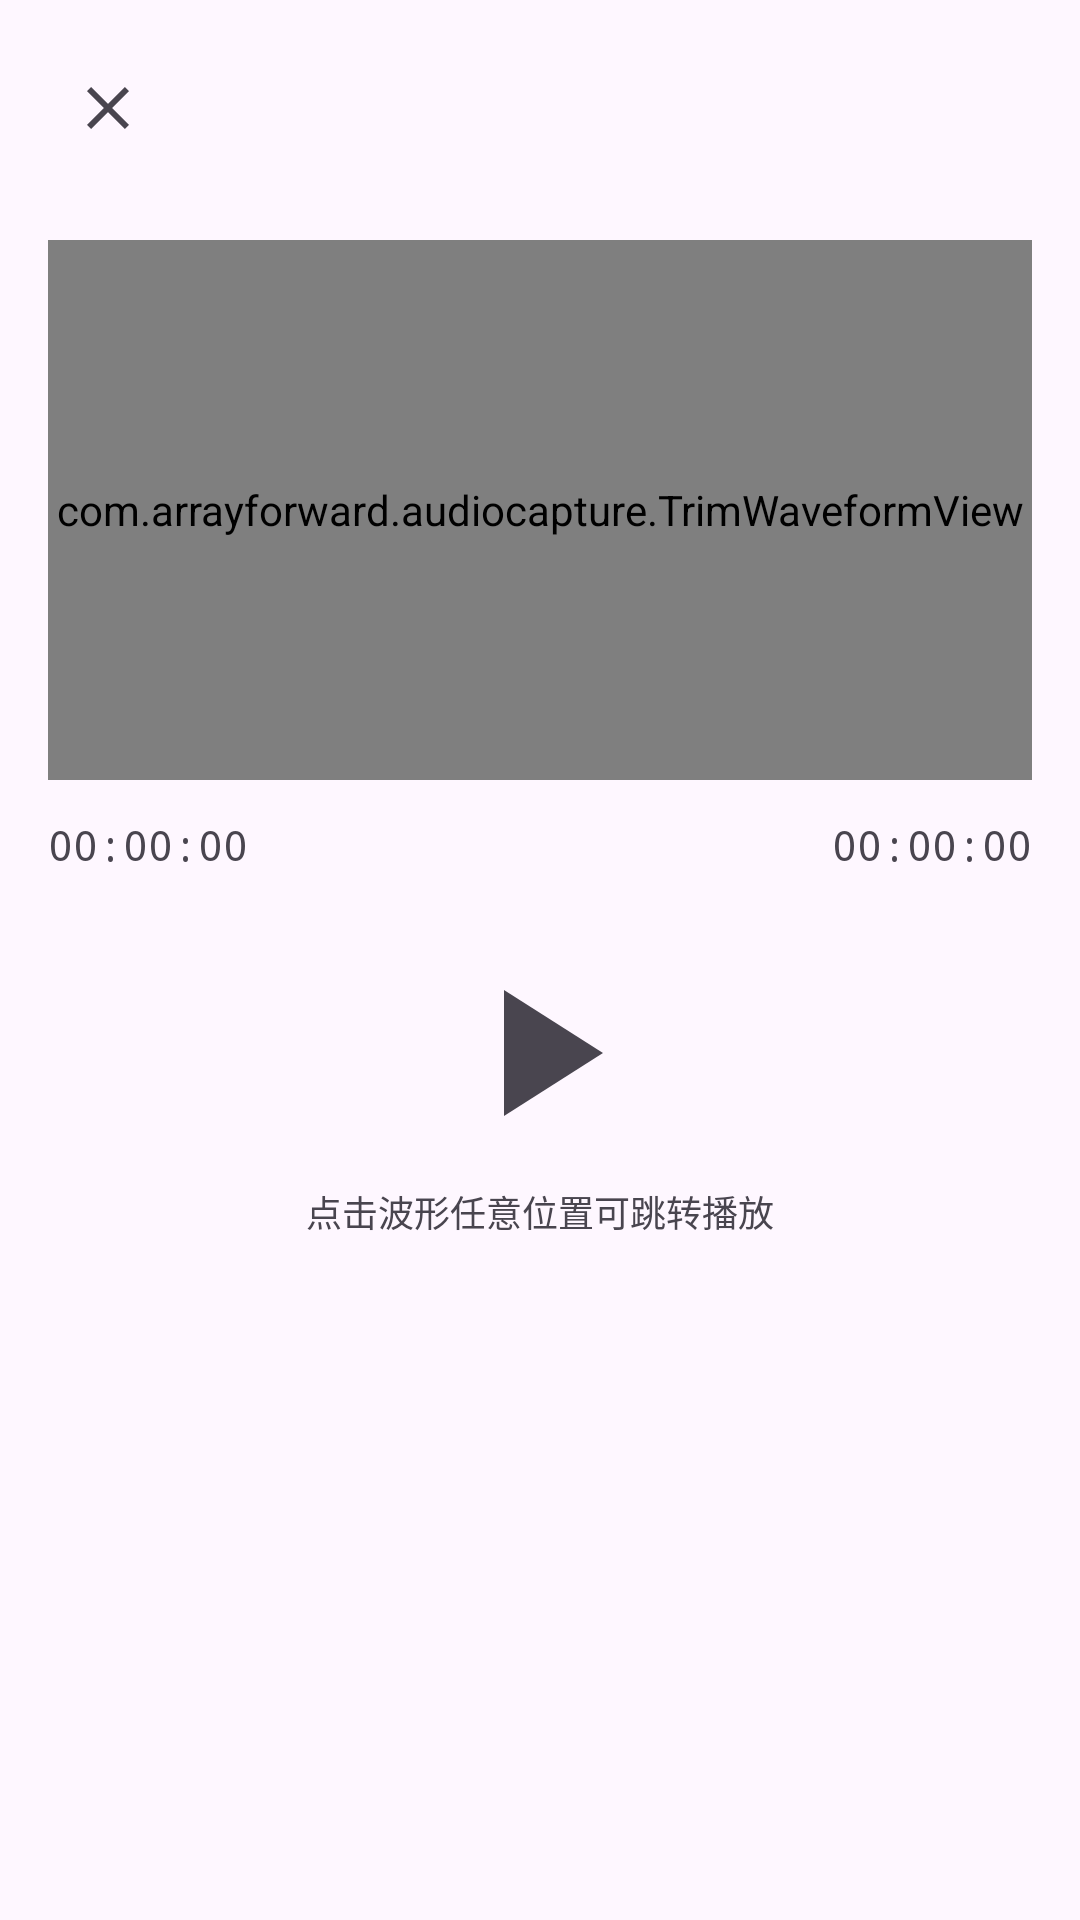

Named icons in this screenshot (1080 x 1920) and their centers, (x,y):
关闭: (108,108)
